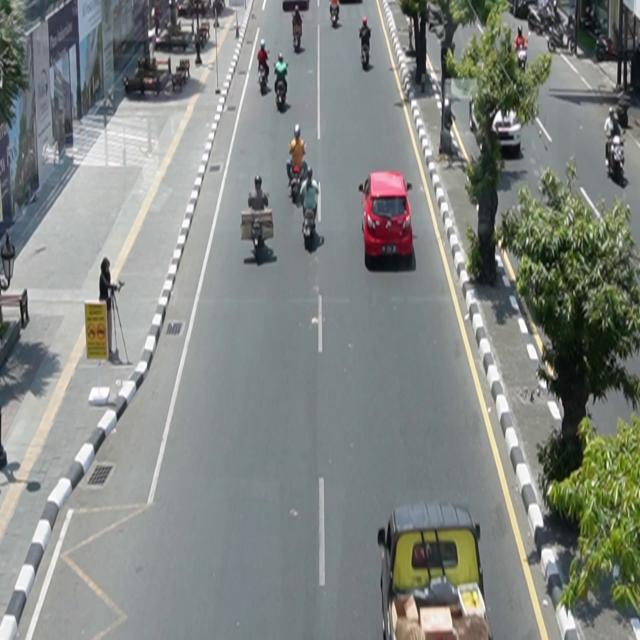car: (378, 501, 494, 640), (359, 171, 414, 267)
